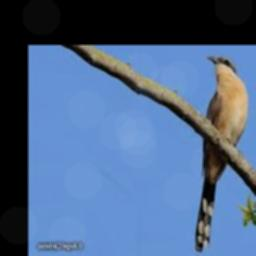Cuckoo: (195, 57, 248, 252)
